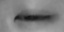RightEyeFatigue: (8, 5, 61, 32)
